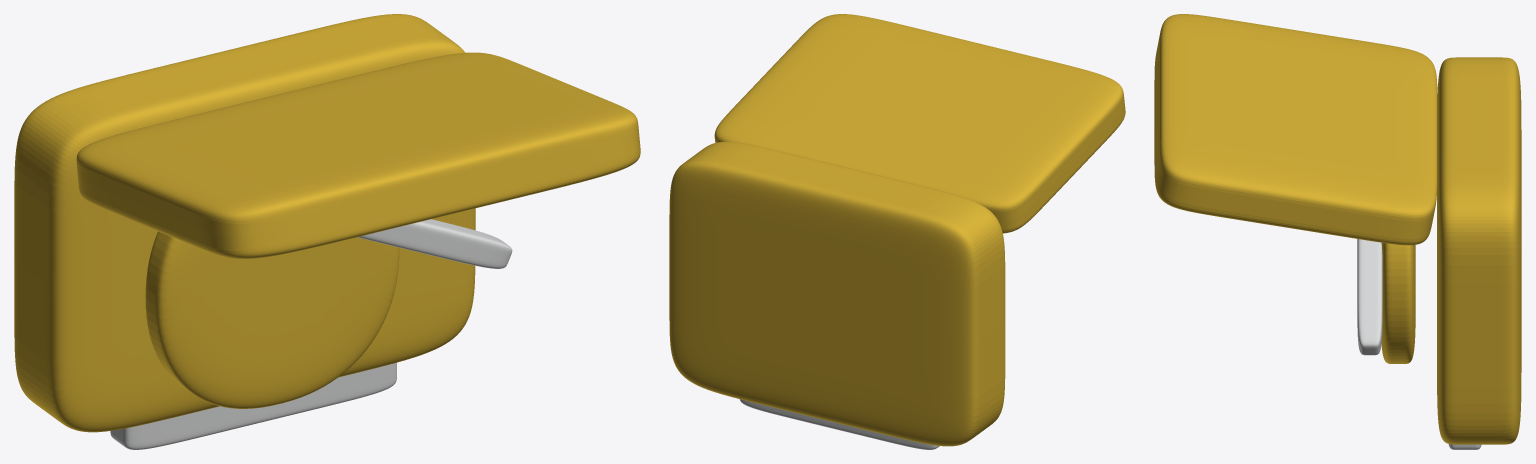
File: suitcase_record_player_sq.glb
3 views of the same model, side by side, from view 1: azimuth 30°, elevation 25°; view 2: azimuth 150°, elevation 25°; view 3: azimuth 270°, elevation 25° (orthographic). The views are drawn at different scales.
Visible parts, largest first — view 1: superquadric_3, superquadric_0, superquadric_1, superquadric_4, superquadric_2; view 2: superquadric_0, superquadric_3, superquadric_4; view 3: superquadric_3, superquadric_0, superquadric_1, superquadric_2.
Boxes of the visible parts, left/top/right/bottom form: superquadric_3: left=76, top=52, right=640, bottom=258; superquadric_0: left=14, top=14, right=475, bottom=432; superquadric_1: left=145, top=231, right=399, bottom=408; superquadric_4: left=110, top=362, right=396, bottom=449; superquadric_2: left=357, top=219, right=512, bottom=268; superquadric_0: left=669, top=141, right=1005, bottom=446; superquadric_3: left=714, top=14, right=1125, bottom=233; superquadric_4: left=739, top=399, right=939, bottom=449; superquadric_3: left=1154, top=14, right=1437, bottom=245; superquadric_0: left=1437, top=57, right=1521, bottom=444; superquadric_1: left=1381, top=243, right=1415, bottom=363; superquadric_2: left=1357, top=239, right=1382, bottom=355.
Size of the model in its own units: 1 by 0.8743 by 0.9298.
